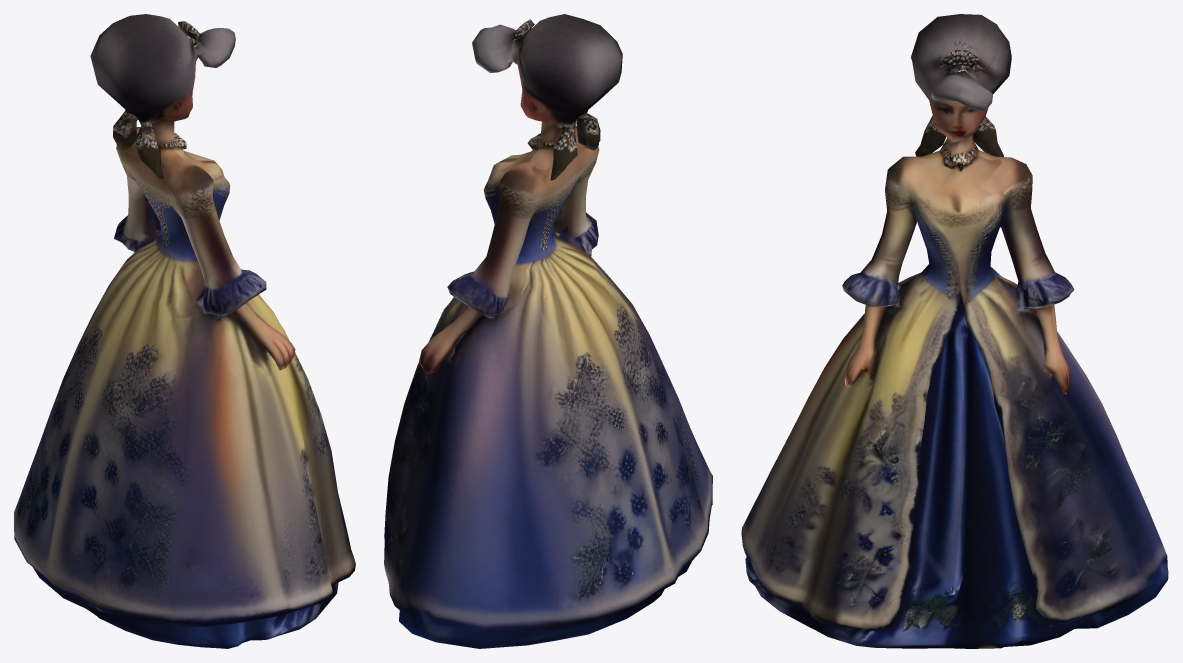
The model's file is Marie.fbx.
3 views of the same model, side by side, from view 1: azimuth 30°, elevation 25°; view 2: azimuth 150°, elevation 25°; view 3: azimuth 270°, elevation 25° (orthographic).
Visible parts, largest first — view 1: tripo_node_02d680ca; view 2: tripo_node_02d680ca; view 3: tripo_node_02d680ca.
Boxes of the visible parts, x1=… form: tripo_node_02d680ca: x1=14, y1=14, x2=355, y2=648; tripo_node_02d680ca: x1=384, y1=14, x2=712, y2=648; tripo_node_02d680ca: x1=741, y1=14, x2=1168, y2=648.
Bounding box in the file's own units: 45.55 × 99.67 × 67.89.
1 material, 1 textured.
